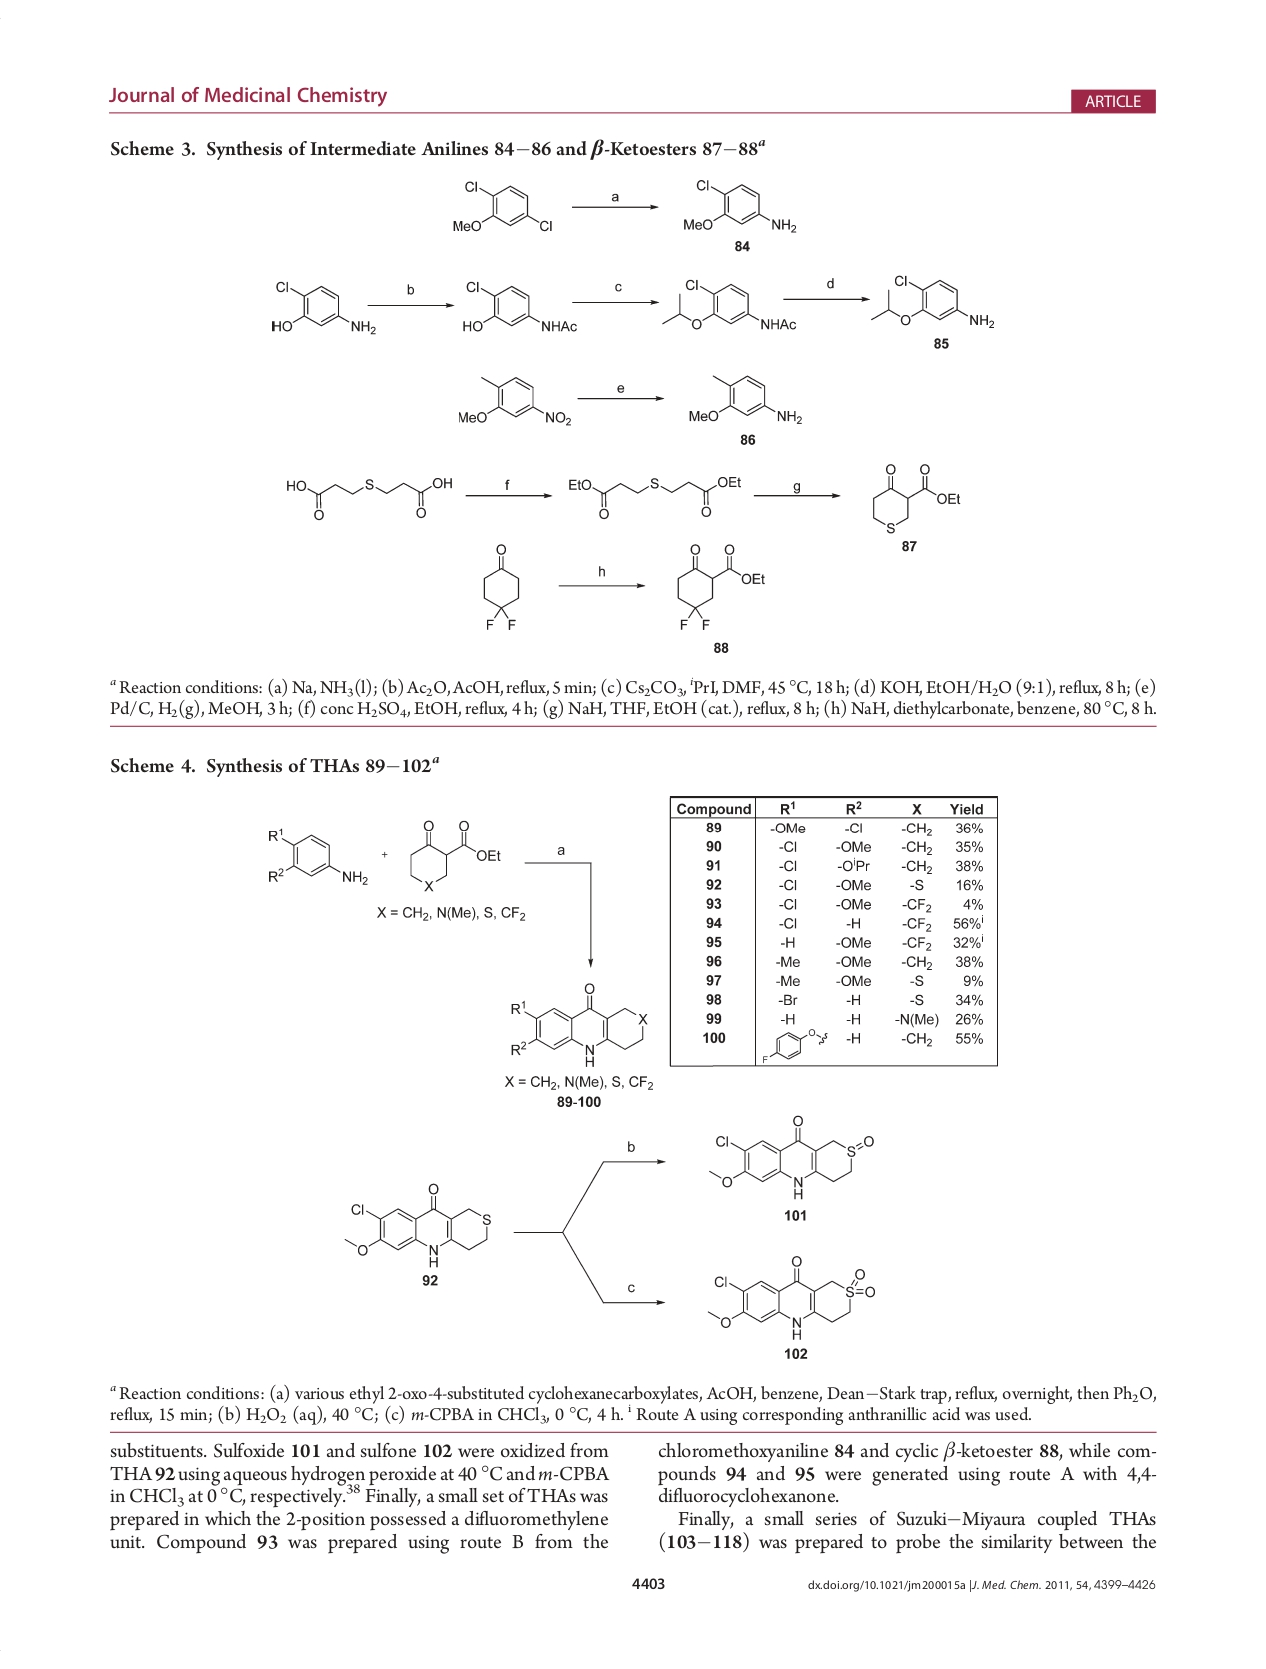exist_molecular: (709, 1253, 879, 1345), (335, 1176, 500, 1270), (703, 1112, 874, 1198), (505, 981, 648, 1071), (561, 465, 747, 523), (285, 467, 457, 523), (669, 540, 770, 632), (249, 815, 371, 888), (660, 274, 802, 335), (400, 815, 505, 895), (452, 366, 574, 434), (864, 452, 963, 535), (457, 274, 578, 340), (677, 174, 805, 237), (870, 270, 997, 328), (684, 368, 805, 430), (265, 274, 378, 339), (448, 169, 556, 235), (469, 537, 533, 632), (761, 1027, 831, 1063)
